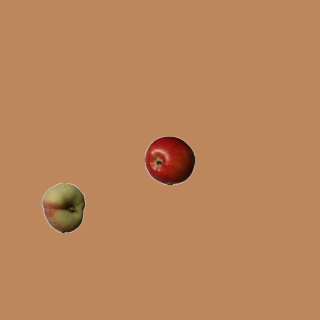Apple Braeburn: (144, 135, 194, 185)
Peach Flat: (38, 182, 88, 232)
